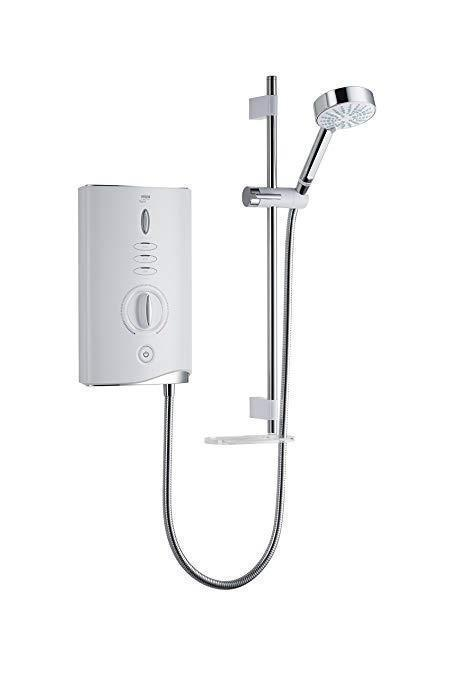Ducha: (76, 65, 367, 610)
